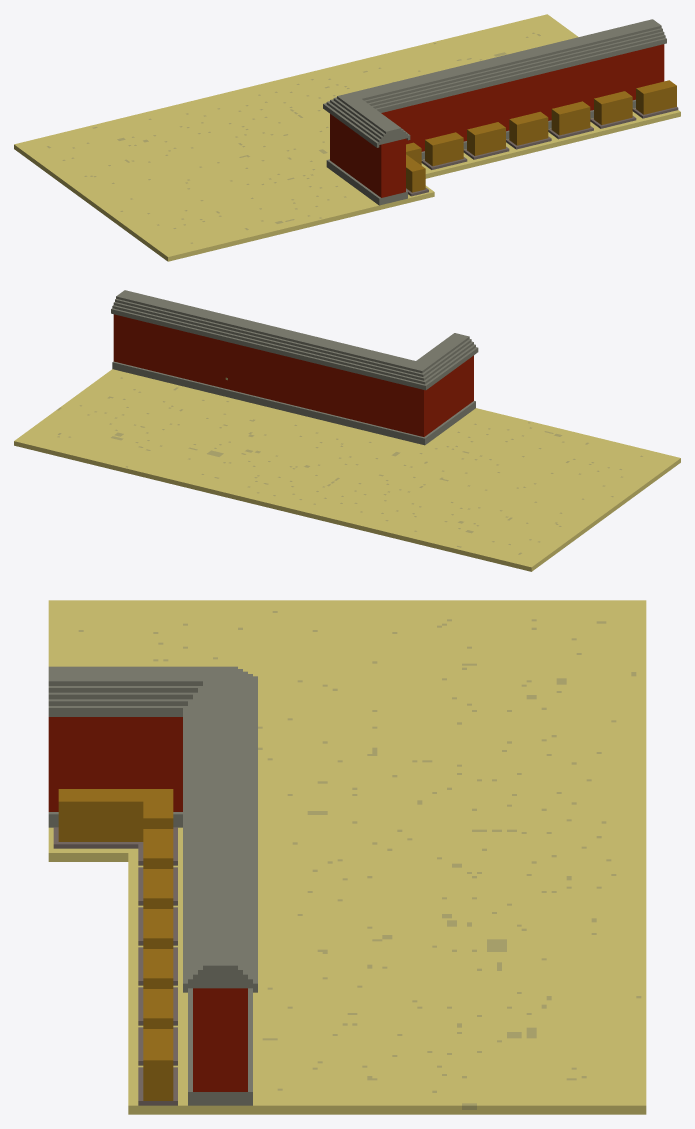
File: Map-14.obj
The picture shows the model from 3 angles, top to bottom: view 1: azimuth 30°, elevation 25°; view 2: azimuth 150°, elevation 25°; view 3: azimuth 270°, elevation 25°; orthographic projection. The views are drawn at different scales.
Size of the model in its own units: 24 by 3.3 by 12.
1 material, 1 textured.
